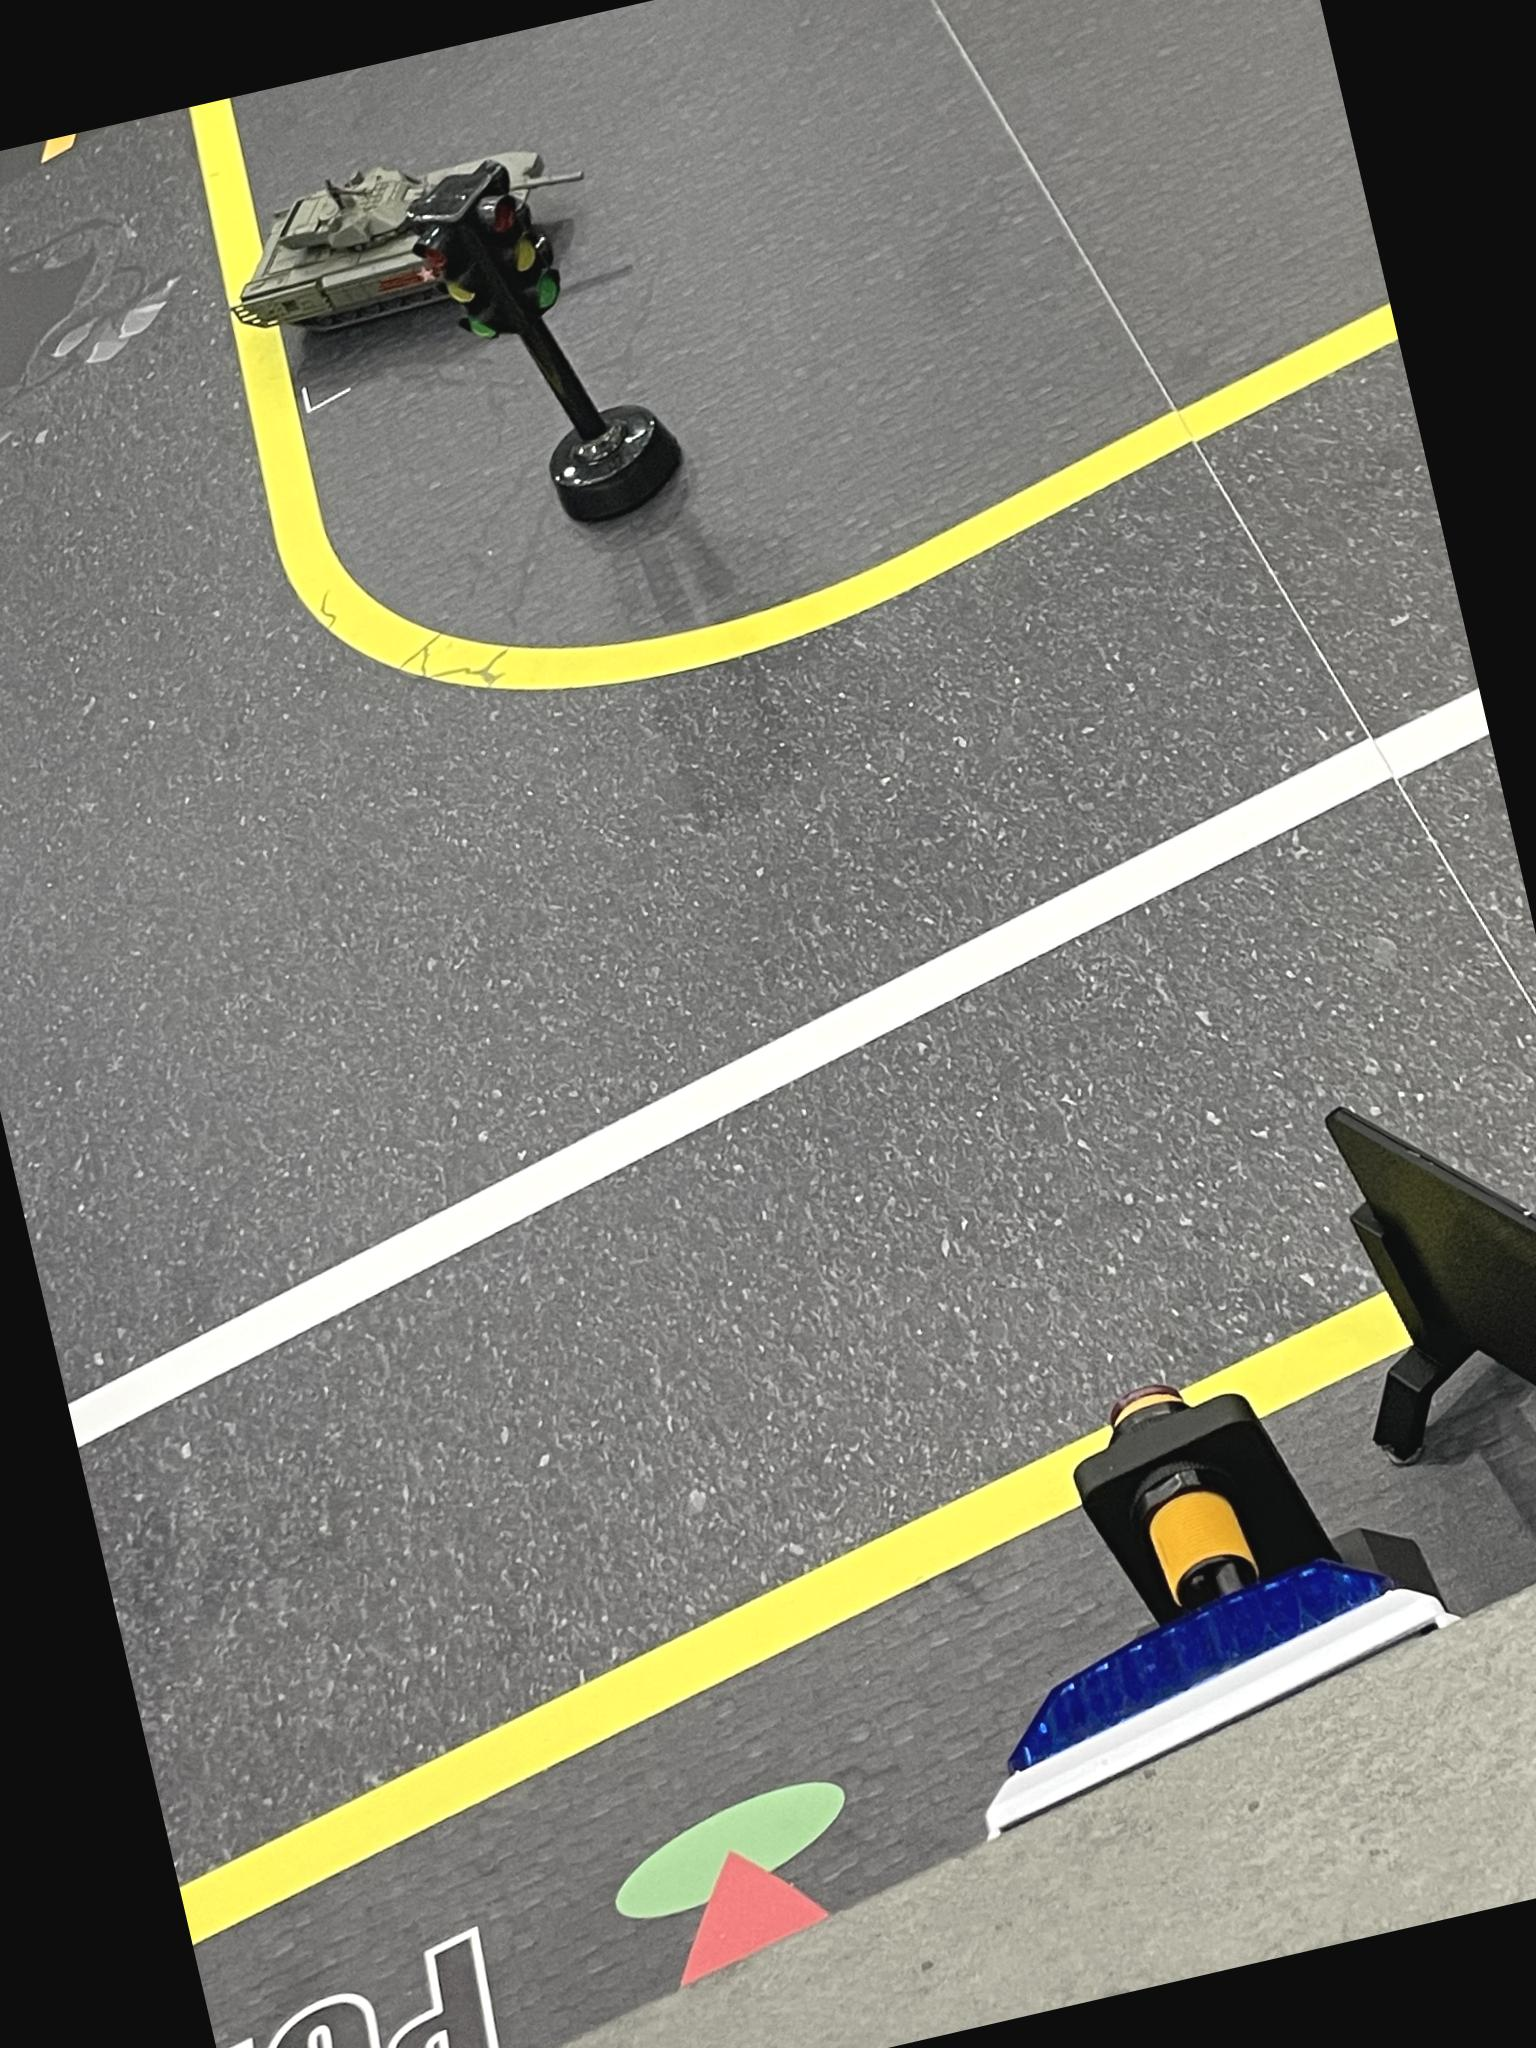Tank: (221, 121, 616, 355)
